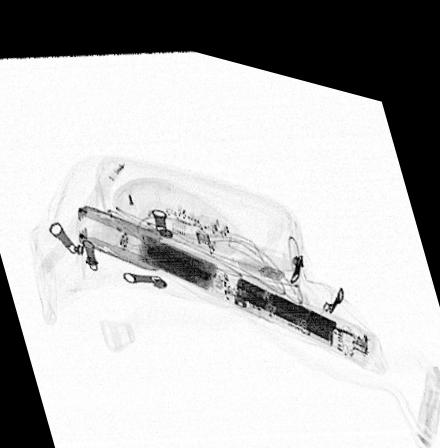Baton: (74, 197, 376, 347)
